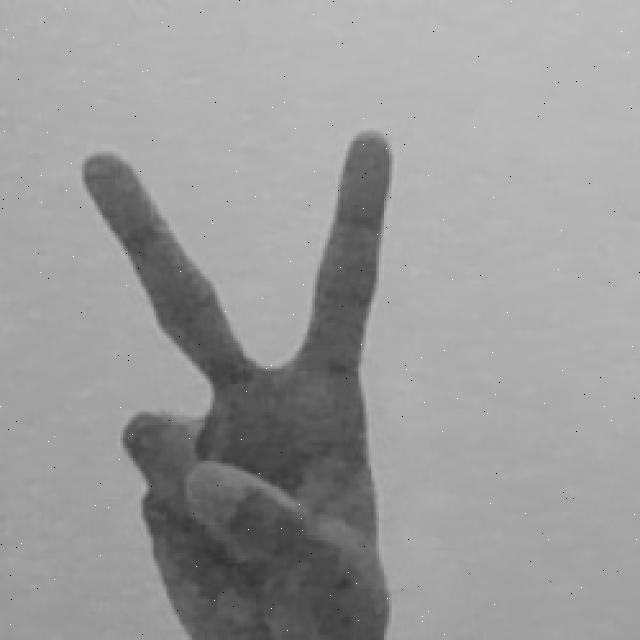V: (77, 123, 399, 640)
